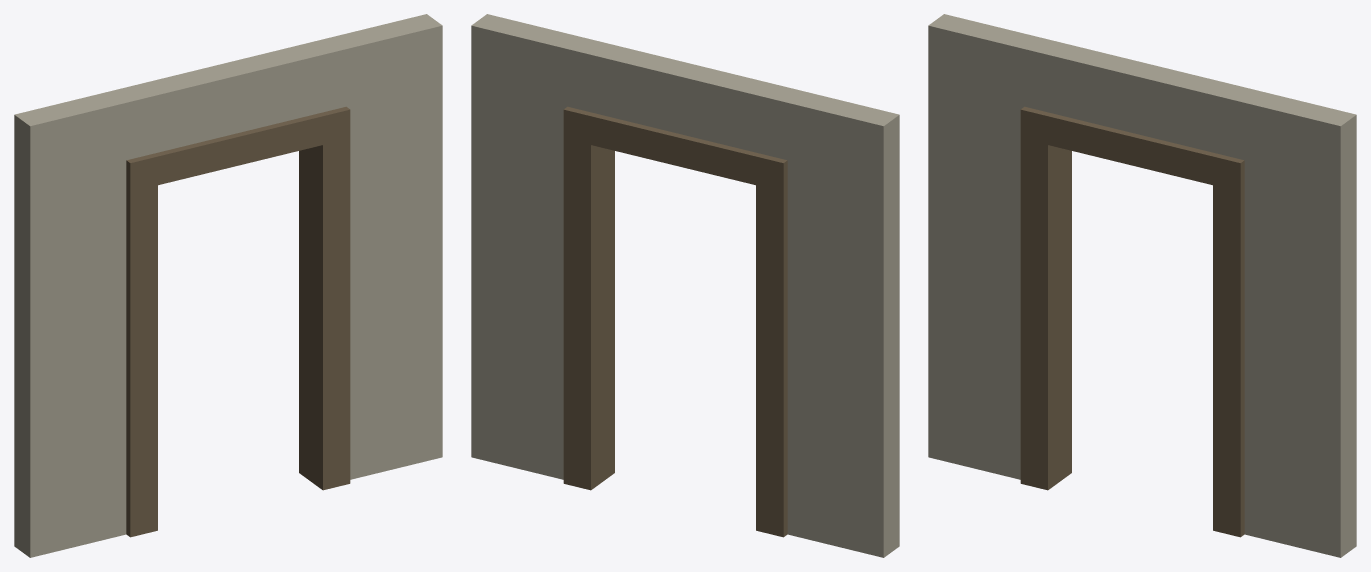
File: victorian_wall_stone_1_door_2.fbx
3 views of the same model, side by side, from view 1: azimuth 30°, elevation 25°; view 2: azimuth 150°, elevation 25°; view 3: azimuth 330°, elevation 25° (orthographic).
Parts seen in each view (by area): view 1: Cube.247; view 2: Cube.247; view 3: Cube.247.
Boxes of the visible parts, x1=… form: Cube.247: x1=14, y1=14, x2=442, y2=557; Cube.247: x1=471, y1=14, x2=899, y2=557; Cube.247: x1=928, y1=14, x2=1356, y2=557.
Bounding box in the file's own units: 300 × 300 × 30.
